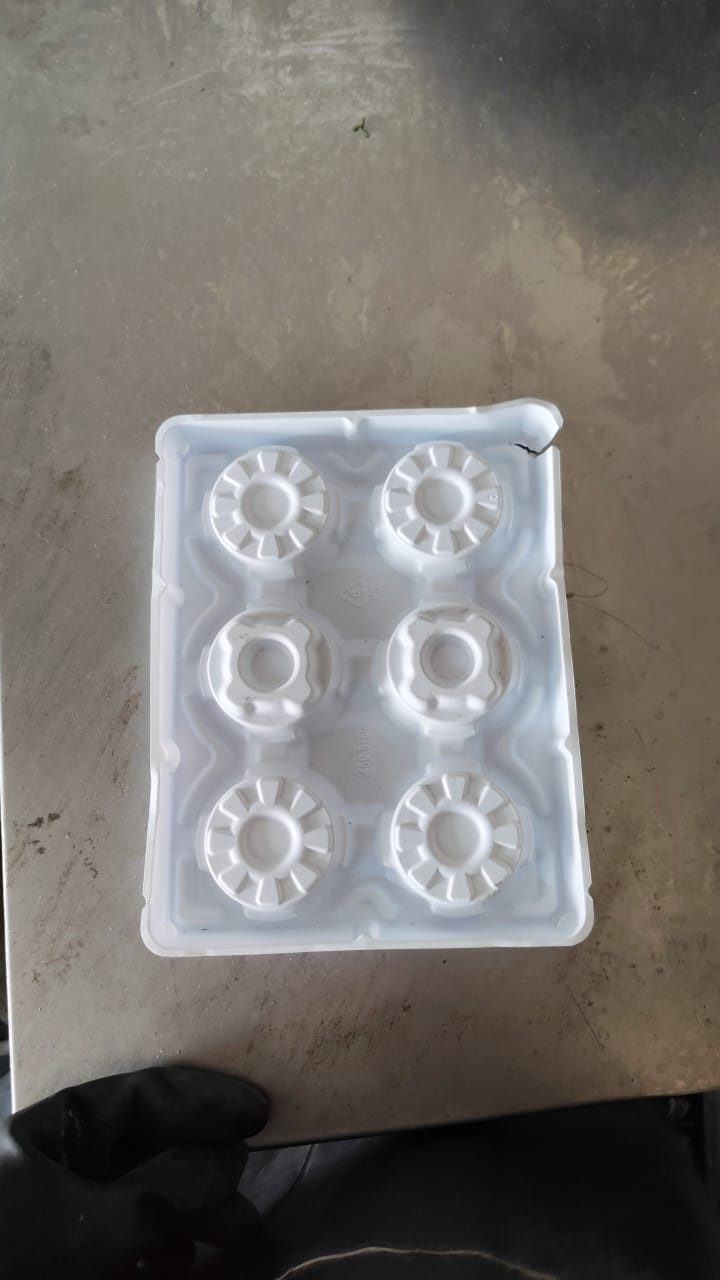Ordinario: (141, 396, 594, 955)
